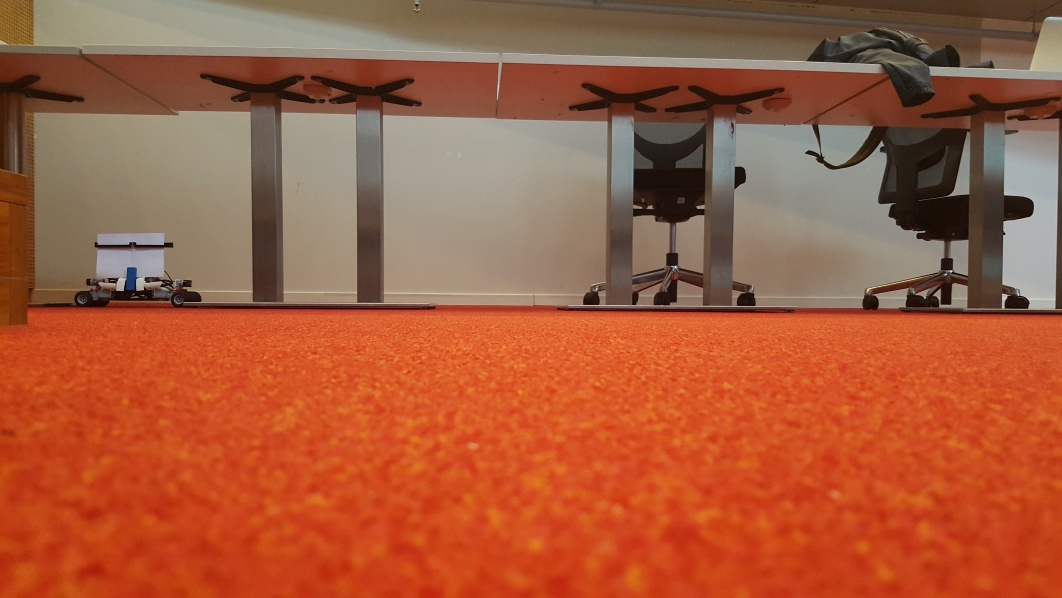car: (75, 230, 202, 309)
